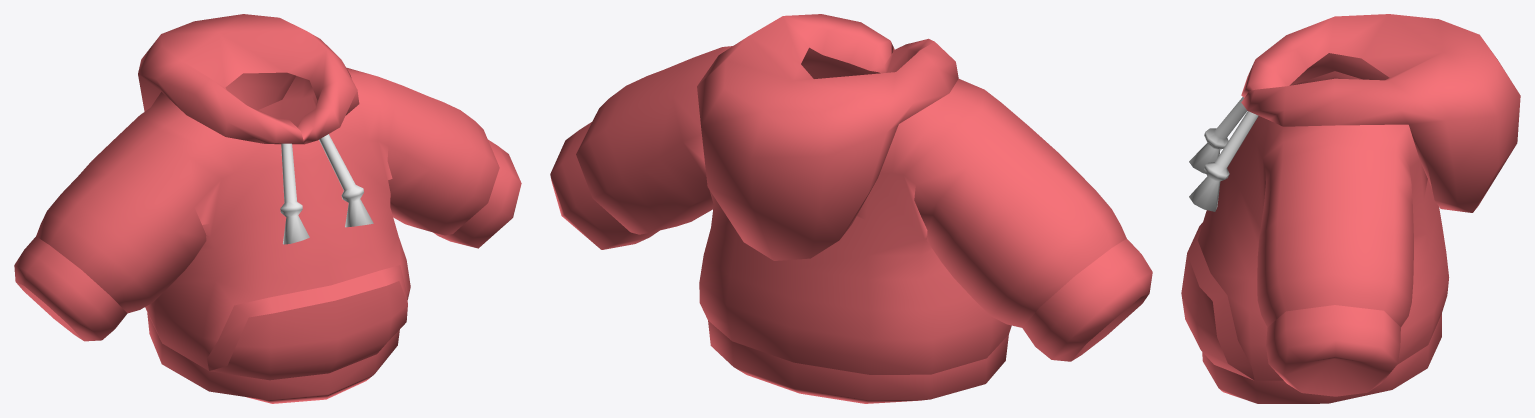
File: top_A_04.fbx
The picture shows the model from 3 angles, left to right: view 1: azimuth 30°, elevation 25°; view 2: azimuth 150°, elevation 25°; view 3: azimuth 270°, elevation 25°; orthographic projection. The views are drawn at different scales.
Visible parts, largest first — view 1: Top_64; view 2: Top_64; view 3: Top_64.
Boxes of the visible parts, <box> form: Top_64: <box>14,14,521,403</box>; Top_64: <box>550,14,1152,403</box>; Top_64: <box>1181,14,1520,403</box>.
Bounding box in the file's own units: 91.47 × 52.57 × 50.2.
